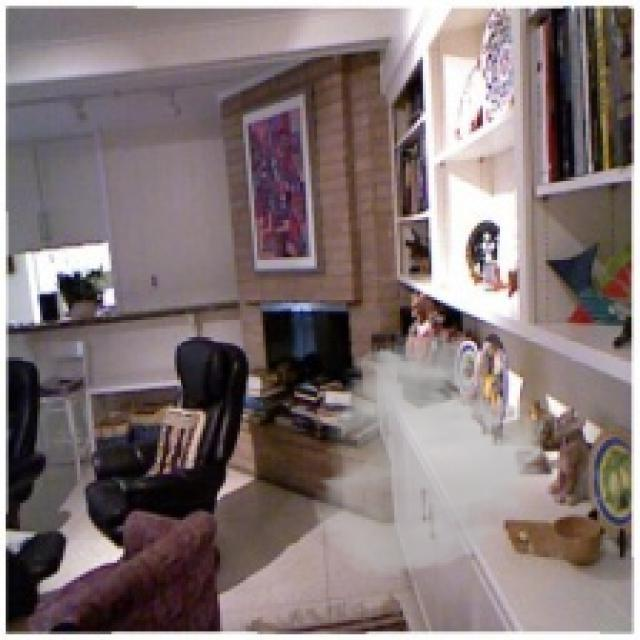Smoke: (308, 328, 563, 580)
